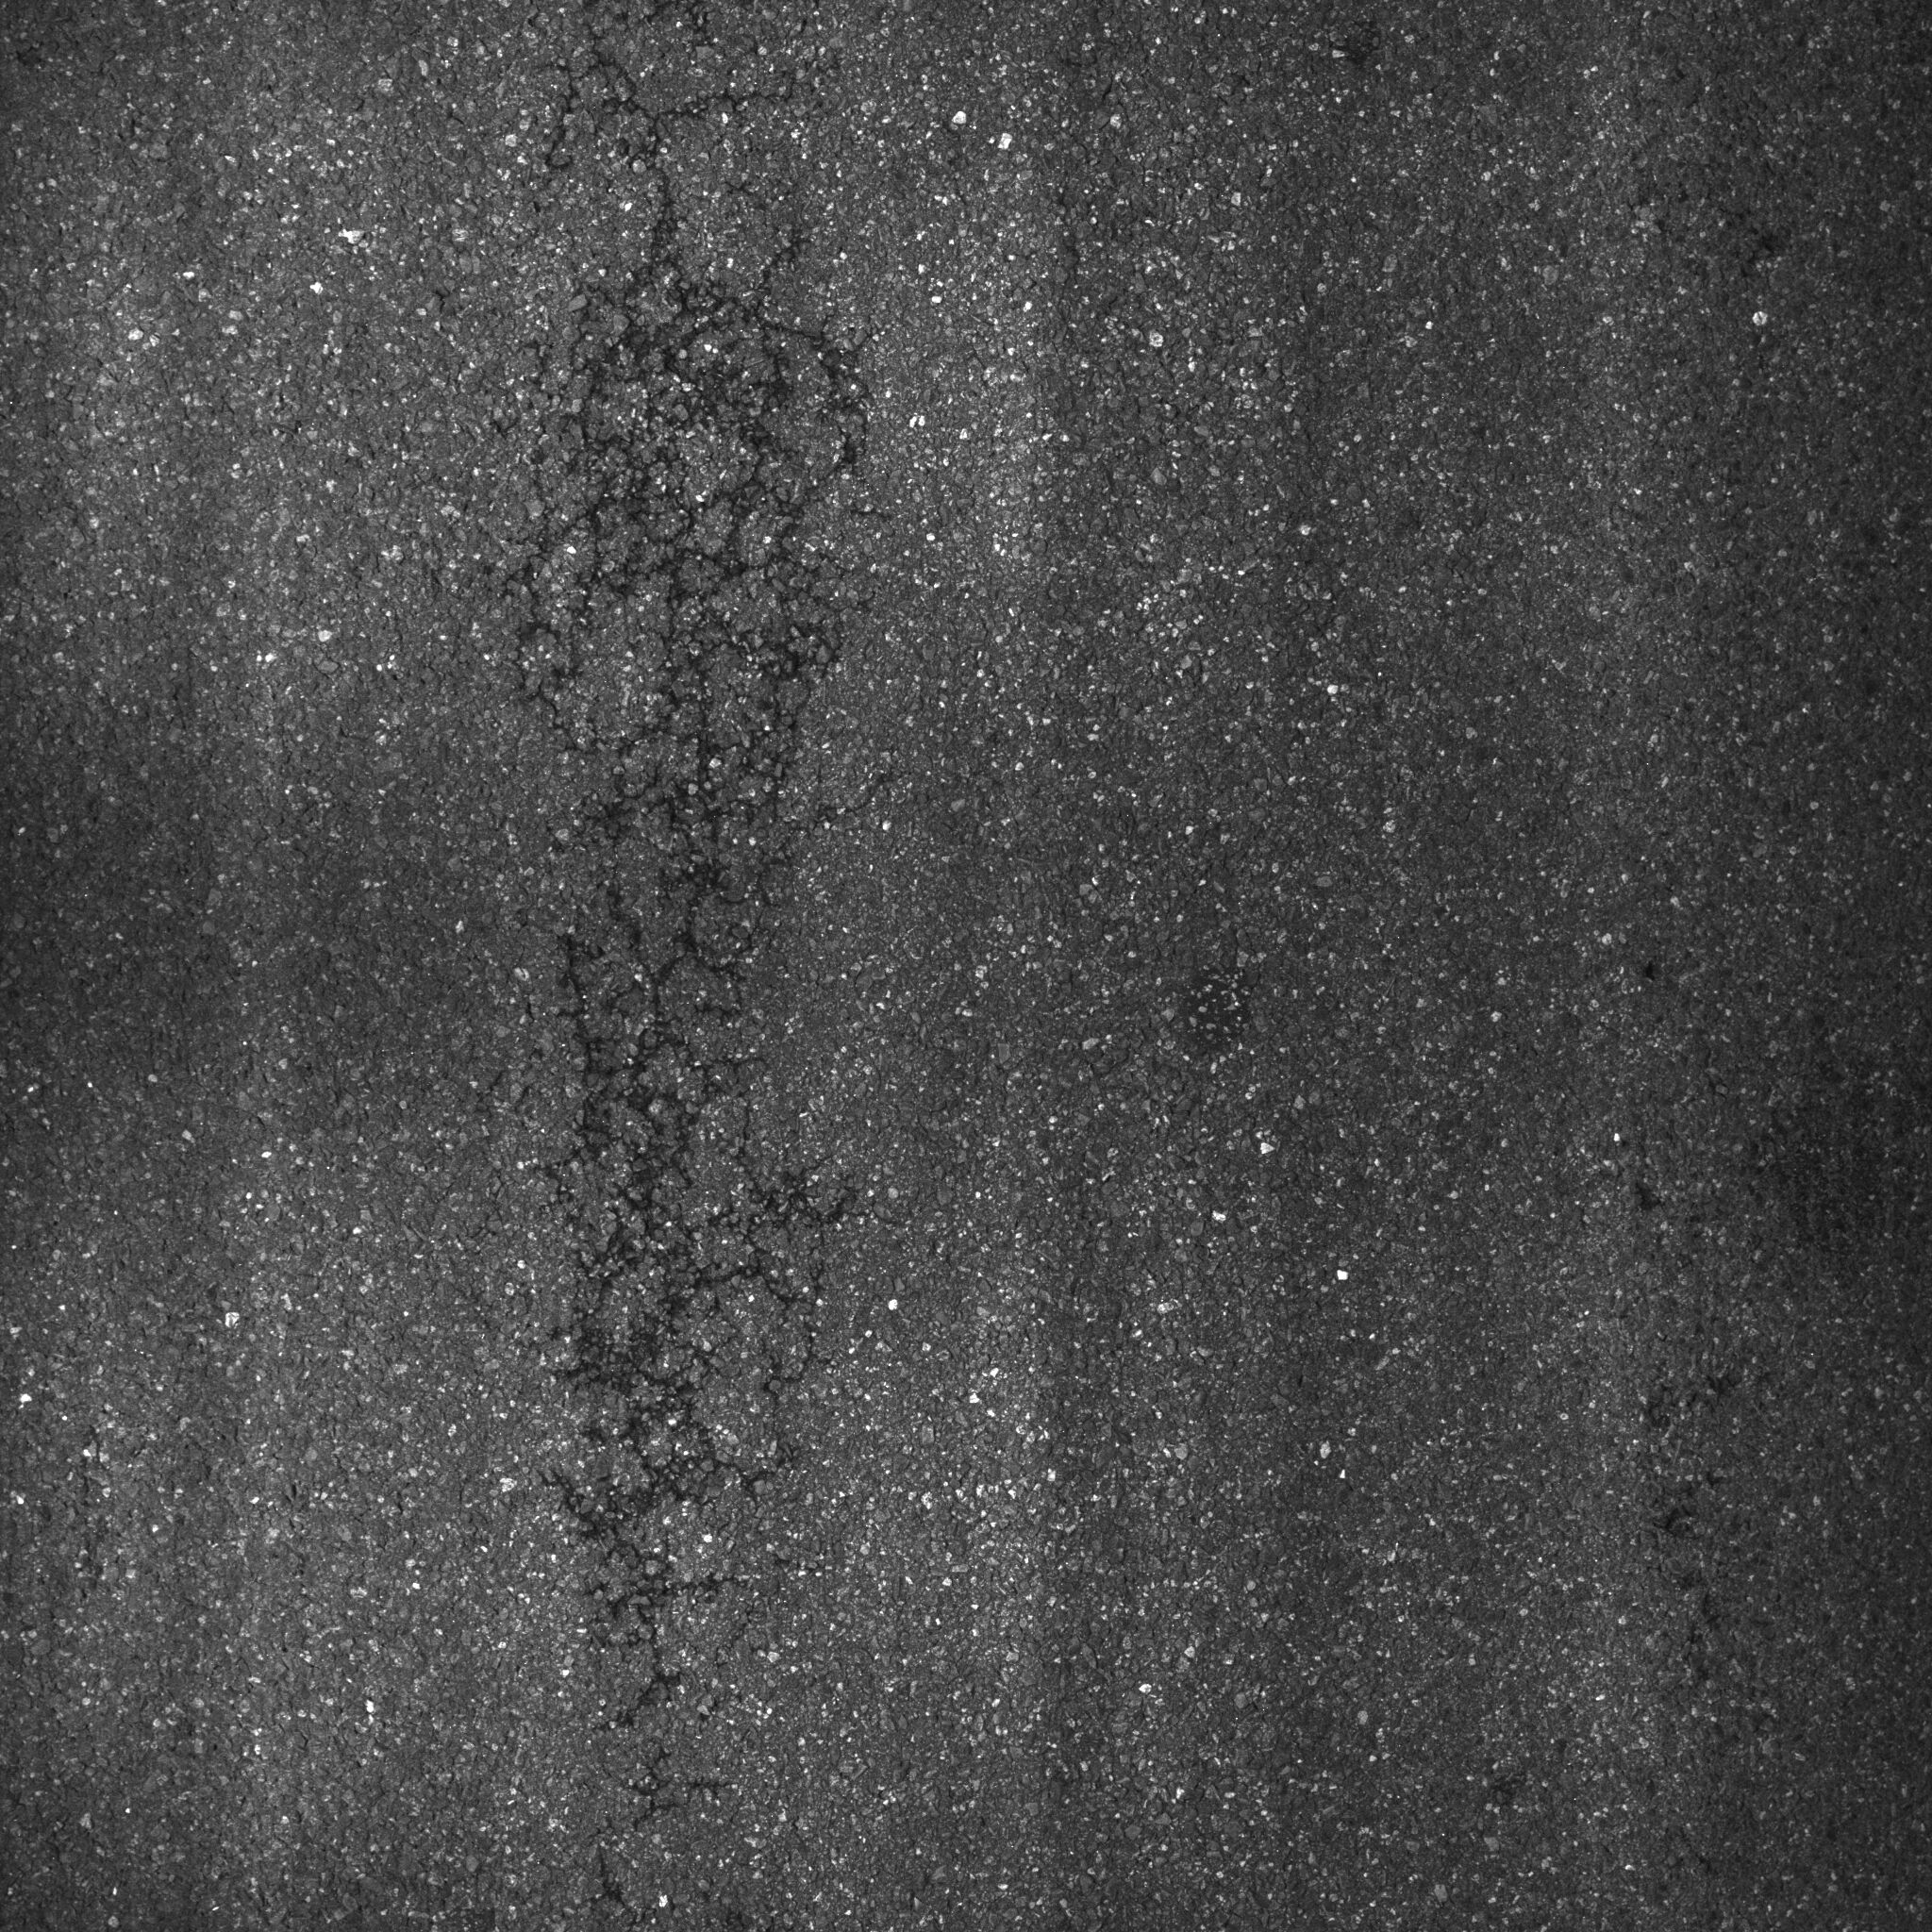alligator: (435, 48, 952, 1921)
